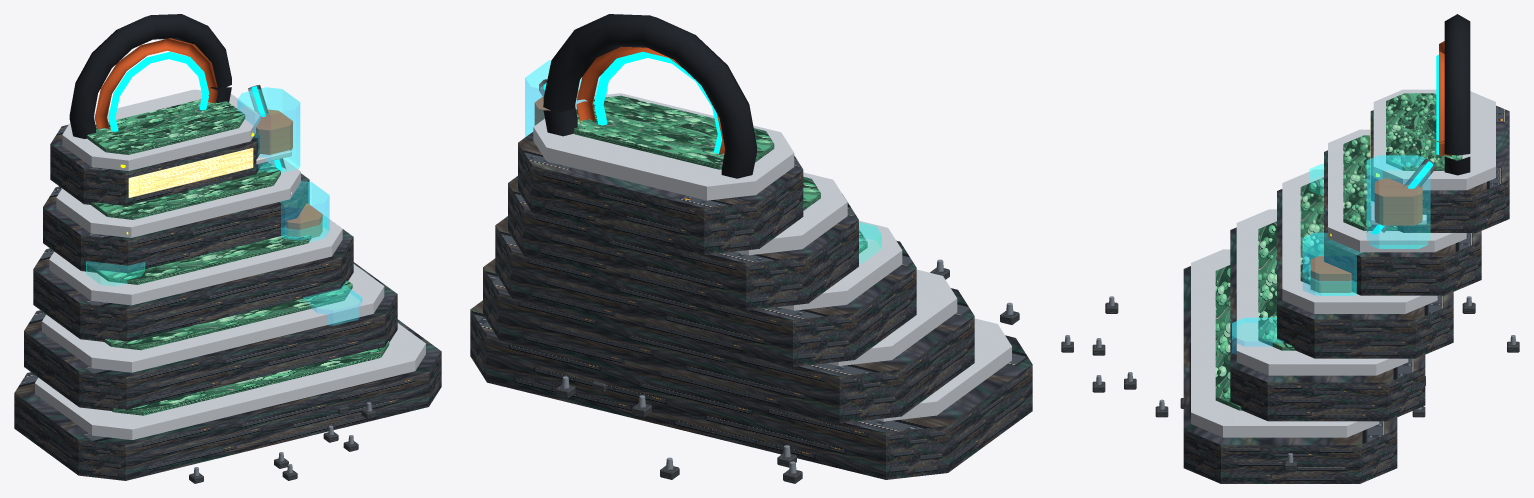
File: interior_setpiece_04_r1_03.glb
The picture shows the model from 3 angles, left to right: view 1: azimuth 30°, elevation 25°; view 2: azimuth 150°, elevation 25°; view 3: azimuth 270°, elevation 25°; orthographic projection. The views are drawn at different scales.
Parts seen in each view (by area): view 1: Setpiece04_C03_cliff_basalt, Setpiece04_C03_aero_white, Setpiece04_C03_biome_canopy, Setpiece04_C03_glass_cyan, Setpiece04_C03_gunmetal, Setpiece04_C03_accent_orange, Setpiece04_C03_window_warm_amber, Setpiece04_C03_led_cyan, Setpiece04_C03_glass_emerald, Setpiece04_C03_steel_machined; view 2: Setpiece04_C03_cliff_basalt, Setpiece04_C03_aero_white, Setpiece04_C03_gunmetal, Setpiece04_C03_biome_canopy, Setpiece04_C03_accent_orange, Setpiece04_C03_led_cyan, Setpiece04_C03_glass_cyan, Setpiece04_C03_glass_emerald, Setpiece04_C03_steel_machined; view 3: Setpiece04_C03_cliff_basalt, Setpiece04_C03_aero_white, Setpiece04_C03_biome_canopy, Setpiece04_C03_glass_cyan, Setpiece04_C03_gunmetal, Setpiece04_C03_accent_orange, Setpiece04_C03_glass_emerald, Setpiece04_C03_steel_machined, Setpiece04_C03_led_cyan.
Boxes of the visible parts, bbox=[...] form: Setpiece04_C03_cliff_basalt: bbox=[14, 124, 441, 483]; Setpiece04_C03_aero_white: bbox=[35, 89, 425, 439]; Setpiece04_C03_biome_canopy: bbox=[87, 99, 389, 415]; Setpiece04_C03_glass_cyan: bbox=[237, 87, 362, 325]; Setpiece04_C03_gunmetal: bbox=[69, 14, 231, 138]; Setpiece04_C03_accent_orange: bbox=[95, 38, 322, 237]; Setpiece04_C03_window_warm_amber: bbox=[128, 148, 253, 197]; Setpiece04_C03_led_cyan: bbox=[108, 52, 282, 170]; Setpiece04_C03_glass_emerald: bbox=[86, 216, 326, 286]; Setpiece04_C03_steel_machined: bbox=[193, 85, 371, 476]; Setpiece04_C03_cliff_basalt: bbox=[470, 132, 1032, 483]; Setpiece04_C03_aero_white: bbox=[533, 93, 1011, 421]; Setpiece04_C03_gunmetal: bbox=[543, 14, 756, 178]; Setpiece04_C03_biome_canopy: bbox=[574, 95, 867, 253]; Setpiece04_C03_accent_orange: bbox=[534, 46, 725, 154]; Setpiece04_C03_led_cyan: bbox=[543, 51, 722, 153]; Setpiece04_C03_glass_cyan: bbox=[525, 60, 607, 136]; Setpiece04_C03_glass_emerald: bbox=[859, 222, 881, 263]; Setpiece04_C03_steel_machined: bbox=[539, 79, 1013, 473]; Setpiece04_C03_cliff_basalt: bbox=[1061, 105, 1519, 483]; Setpiece04_C03_aero_white: bbox=[1191, 89, 1495, 437]; Setpiece04_C03_biome_canopy: bbox=[1215, 93, 1462, 410]; Setpiece04_C03_glass_cyan: bbox=[1232, 155, 1430, 354]; Setpiece04_C03_gunmetal: bbox=[1444, 14, 1470, 175]; Setpiece04_C03_accent_orange: bbox=[1310, 41, 1451, 292]; Setpiece04_C03_glass_emerald: bbox=[1309, 164, 1355, 295]; Setpiece04_C03_steel_machined: bbox=[1064, 158, 1516, 462]; Setpiece04_C03_led_cyan: bbox=[1371, 54, 1438, 234].
Bounding box in the file's own units: 34.58 × 30.1 × 34.29.
Materials: 11 (11 with a texture image).
